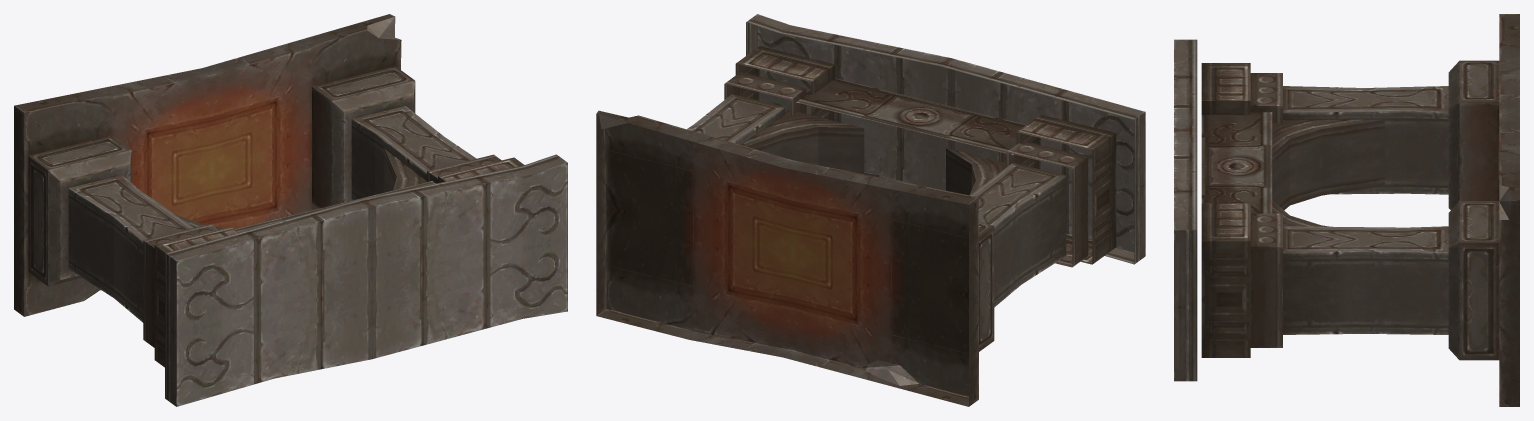
The model's file is tanxian_fuben_257_canting_bilu.obj.
3 views of the same model, side by side, from view 1: azimuth 30°, elevation 25°; view 2: azimuth 150°, elevation 25°; view 3: azimuth 270°, elevation 25° (orthographic). The views are drawn at different scales.
Parts seen in each view (by area): view 1: tanxian_fuben_257_canting_bilu; view 2: tanxian_fuben_257_canting_bilu; view 3: tanxian_fuben_257_canting_bilu.
Part boxes in pixels (<box>): tanxian_fuben_257_canting_bilu: <box>14,14,567,406</box>; tanxian_fuben_257_canting_bilu: <box>596,14,1145,406</box>; tanxian_fuben_257_canting_bilu: <box>1174,14,1519,406</box>.
Size of the model in its own units: 81.19 by 40.64 by 61.2.
Materials: 1 (1 with a texture image).
